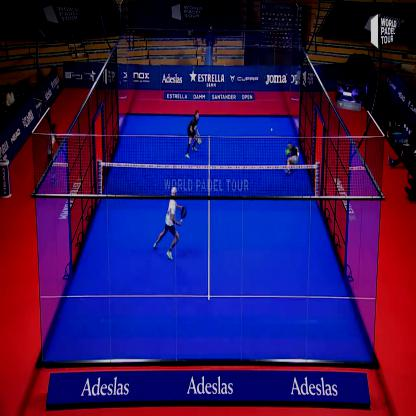ball: (269, 124, 275, 134)
